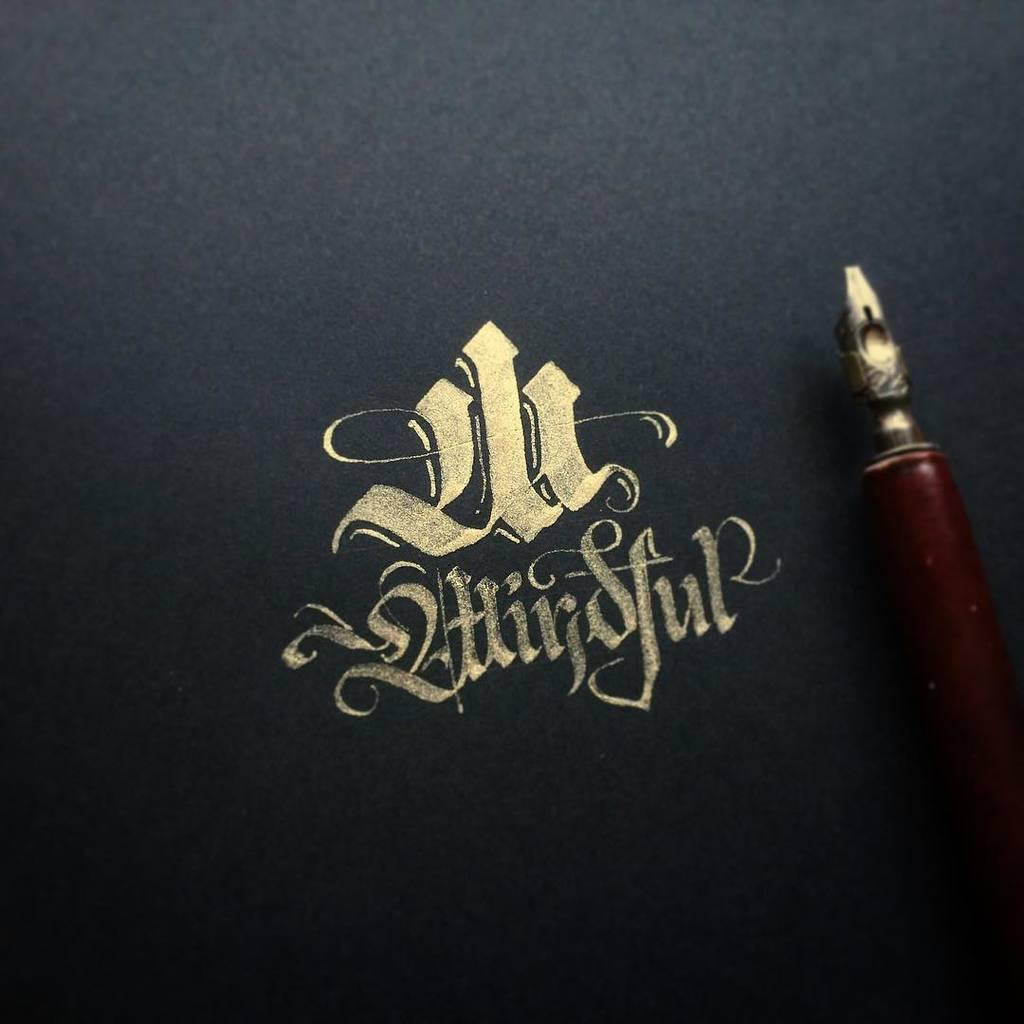pen: (819, 245, 1016, 783)
